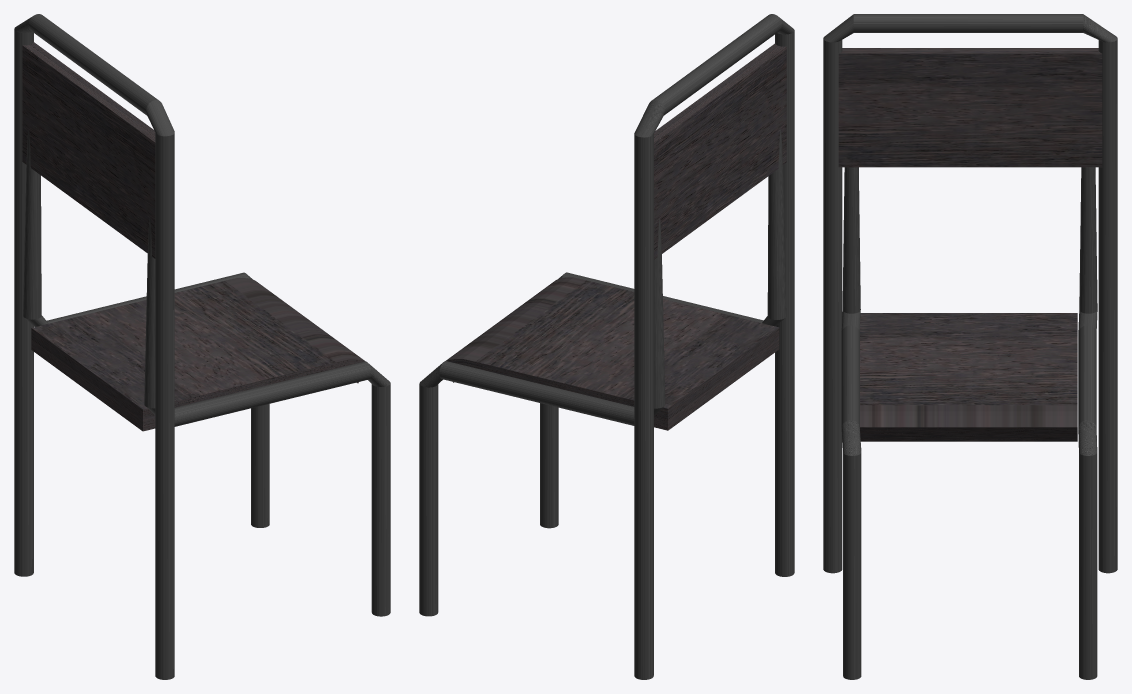
The picture shows the model from 3 angles, left to right: view 1: azimuth 30°, elevation 25°; view 2: azimuth 150°, elevation 25°; view 3: azimuth 270°, elevation 25°; orthographic projection. The views are drawn at different scales.
Parts seen in each view (by area): view 1: Cube, Cylinder.003, Cube.001, Cylinder, Cylinder.001; view 2: Cube, Cylinder.003, Cube.001, Cylinder.001, Cylinder; view 3: Cube.001, Cube, Cylinder.003, Cylinder.001, Cylinder.
Part boxes in pixels (box(x1,y1,x2,y2)): Cube: box(31, 278, 364, 431); Cylinder.003: box(14, 14, 174, 679); Cube.001: box(22, 42, 155, 258); Cylinder: box(144, 217, 390, 616); Cylinder.001: box(23, 129, 269, 527); Cube: box(446, 277, 779, 430); Cylinder.003: box(634, 14, 794, 679); Cube.001: box(654, 43, 786, 259); Cylinder.001: box(419, 218, 665, 616); Cylinder: box(540, 130, 786, 528); Cube.001: box(838, 48, 1102, 167); Cube: box(860, 313, 1077, 441); Cylinder.003: box(823, 14, 1117, 573); Cylinder.001: box(1078, 167, 1097, 679); Cylinder: box(841, 167, 861, 679).
Bounding box in the file's own units: 2.31 × 5.13 × 2.47.
2 materials, 2 textured.
